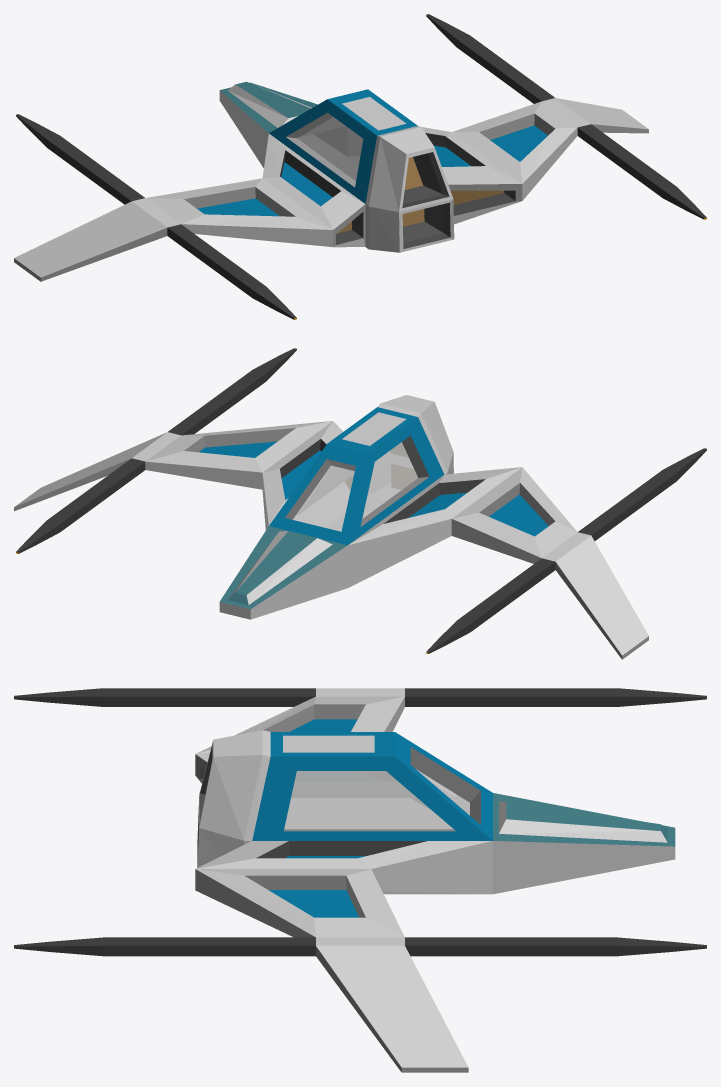
Rendered from blueship.fbx.
3 renders of one model, top to bottom at view 1: azimuth 30°, elevation 25°; view 2: azimuth 150°, elevation 25°; view 3: azimuth 270°, elevation 25°, orthographic. The views are drawn at different scales.
Visible parts, largest first — view 1: blueship; view 2: blueship; view 3: blueship.
Part boxes in pixels (x1=…): blueship: x1=14, y1=14, x2=706, y2=319; blueship: x1=14, y1=348, x2=706, y2=659; blueship: x1=14, y1=688, x2=706, y2=1072.
Bounding box in the file's own units: 40.19 × 7.37 × 31.84.
